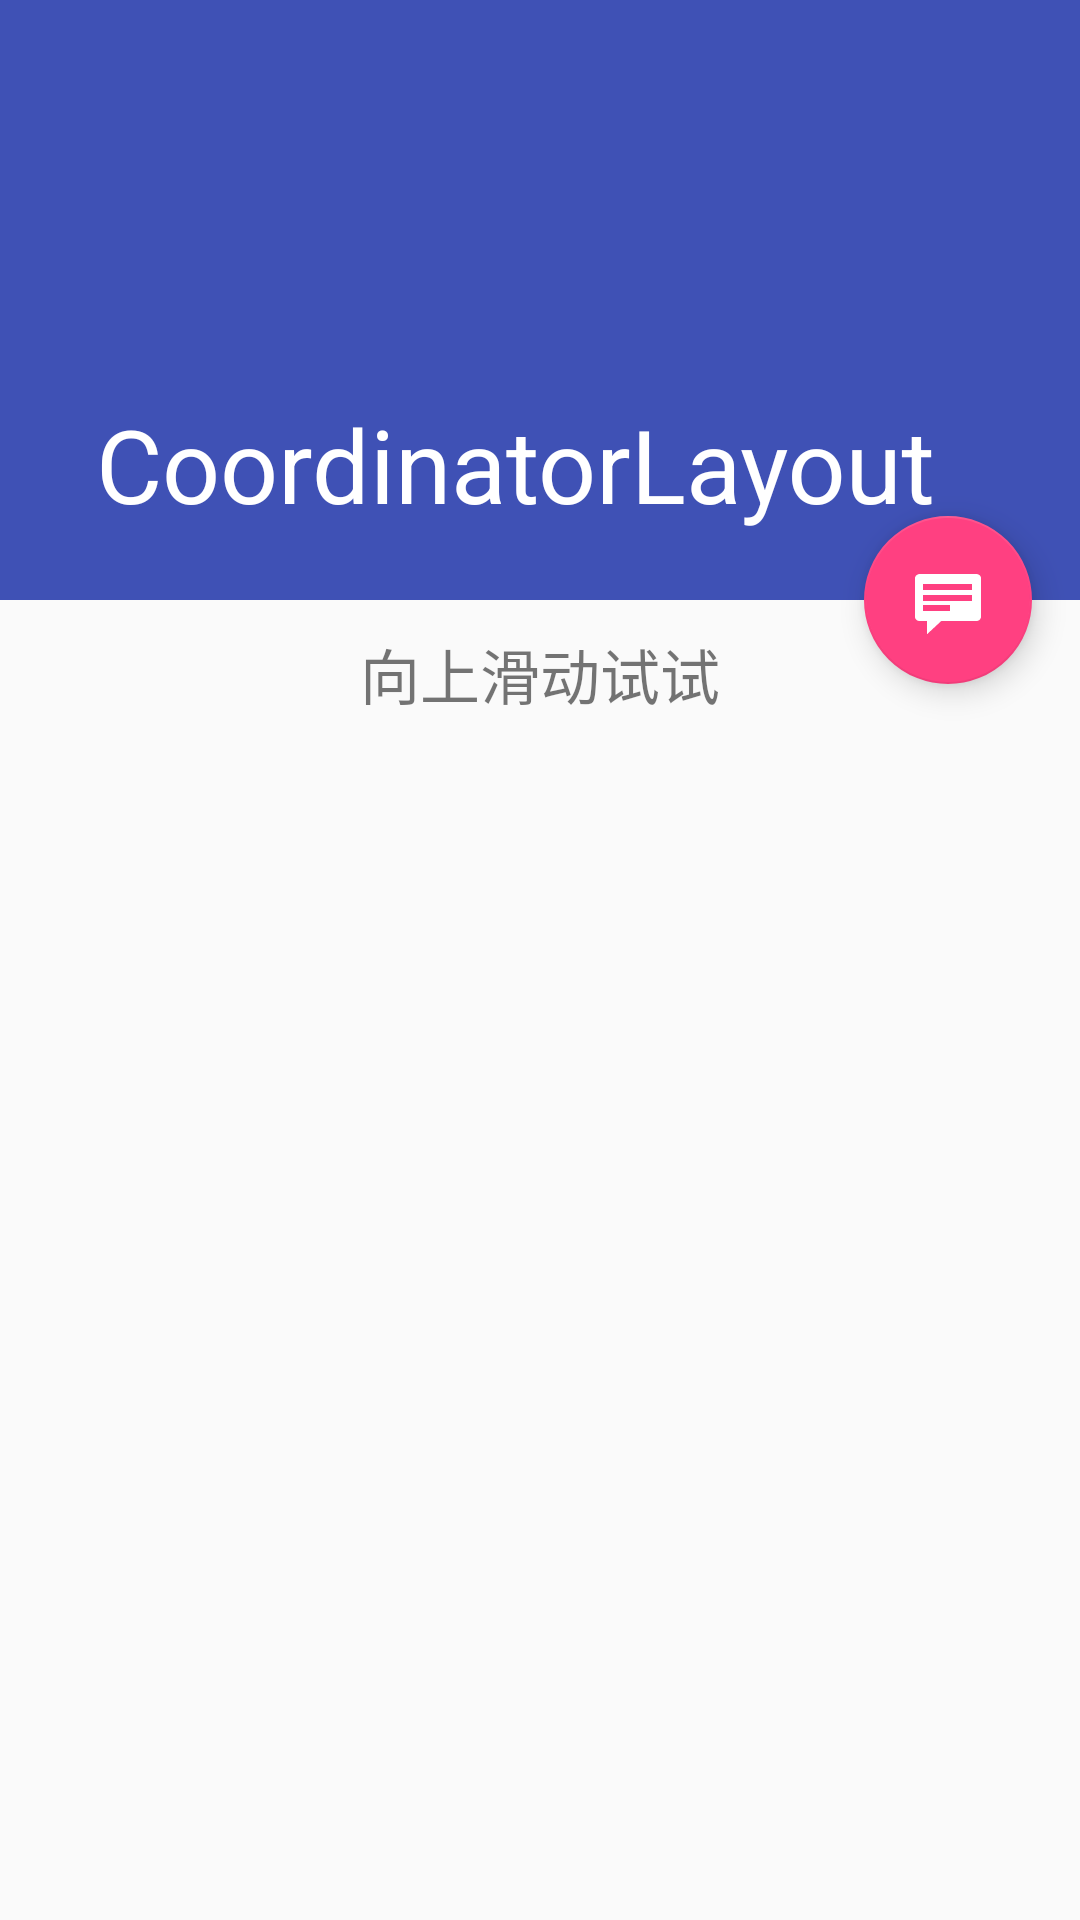

Screen size 1080 x 1920. Icon name, then its center in pixels as (x,y):
chat: (948,600)
